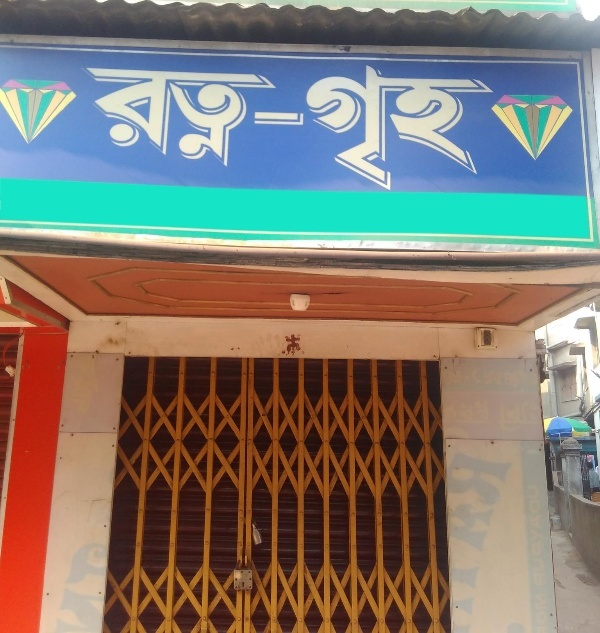text: (97, 65, 112, 194), (113, 65, 128, 194), (129, 65, 144, 194), (145, 65, 160, 194), (161, 65, 176, 194), (177, 65, 192, 194), (193, 65, 208, 194), (209, 65, 224, 194), (225, 65, 240, 194), (241, 65, 256, 194), (257, 65, 272, 194), (273, 65, 288, 194), (289, 65, 304, 194), (305, 65, 320, 194), (321, 65, 336, 194), (337, 65, 352, 194), (353, 65, 368, 194), (369, 65, 384, 194), (385, 65, 400, 194), (401, 65, 416, 194), (417, 65, 432, 194), (433, 65, 448, 194), (449, 65, 464, 194), (465, 65, 480, 194), (481, 65, 496, 194), (90, 65, 96, 194), (289, 331, 304, 356), (276, 331, 288, 356), (305, 331, 315, 356), (497, 65, 498, 194)
